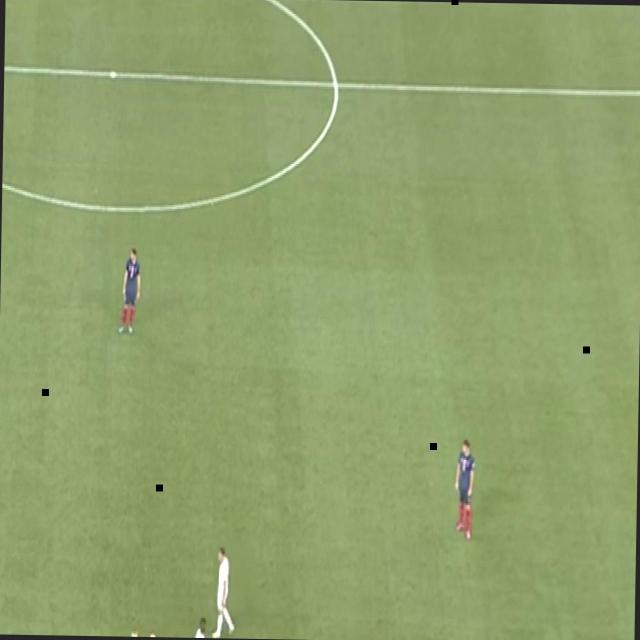player-white: (210, 544, 240, 639), (116, 246, 142, 340), (454, 437, 476, 545), (182, 614, 220, 638), (128, 628, 162, 637), (139, 635, 172, 637), (352, 638, 384, 640)
